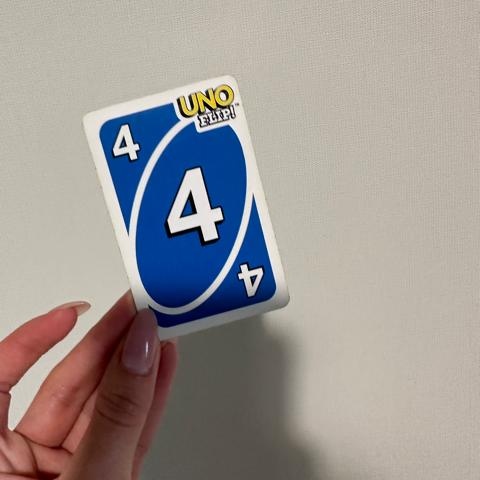lblue-4: (98, 113, 158, 173)
